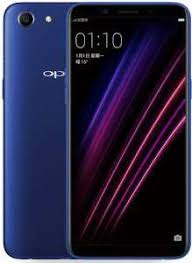oppo: (64, 1, 189, 263)
